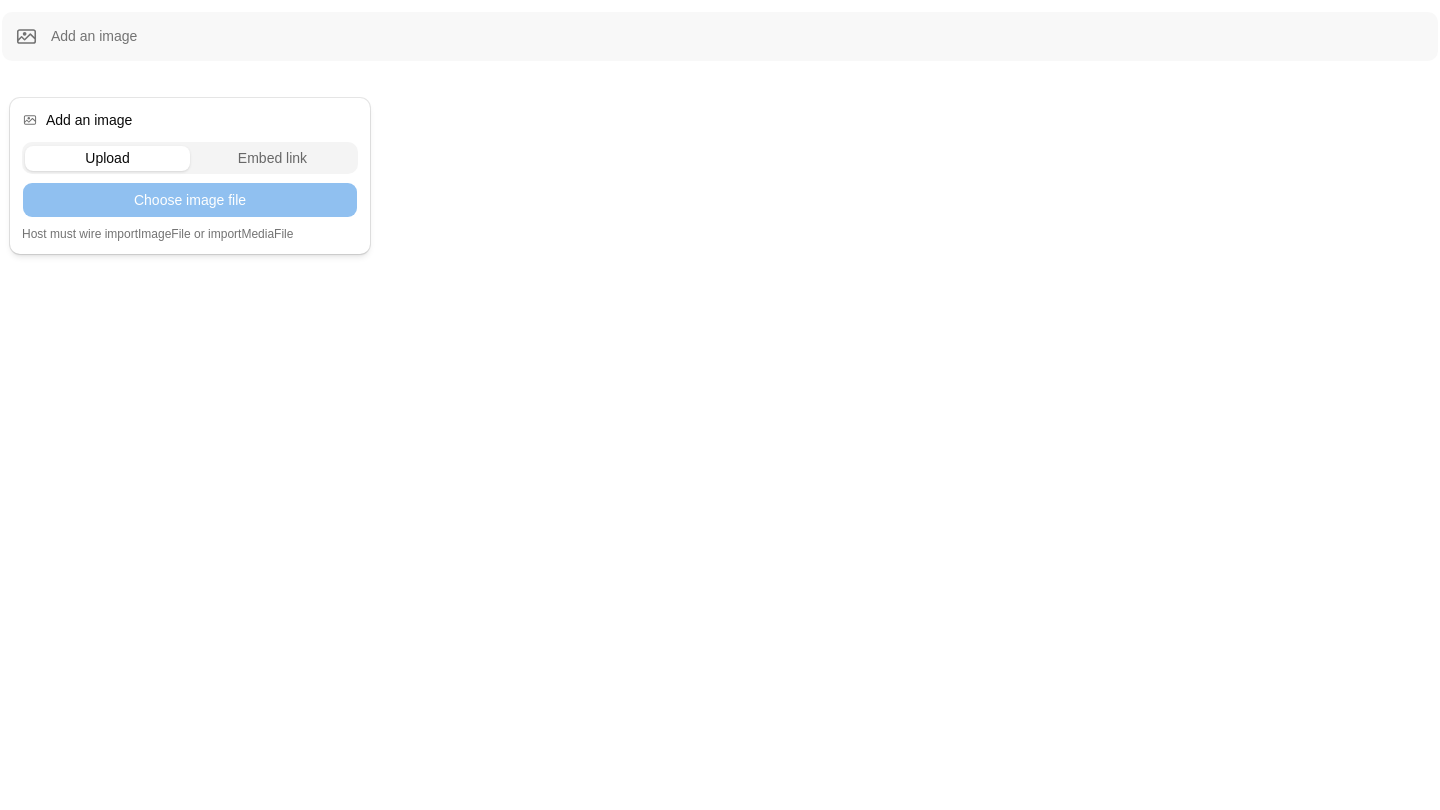
ImageEmptyPopover › rejects javascript URLs without mutating doc
The width and height of the screenshot is (1440, 810).
Expected: the tab "Upload" is shown, [25,146,190,170]
Press the mouse on the tab "Embed link" at {"x": 272, "y": 158}, box [190,146,355,170]
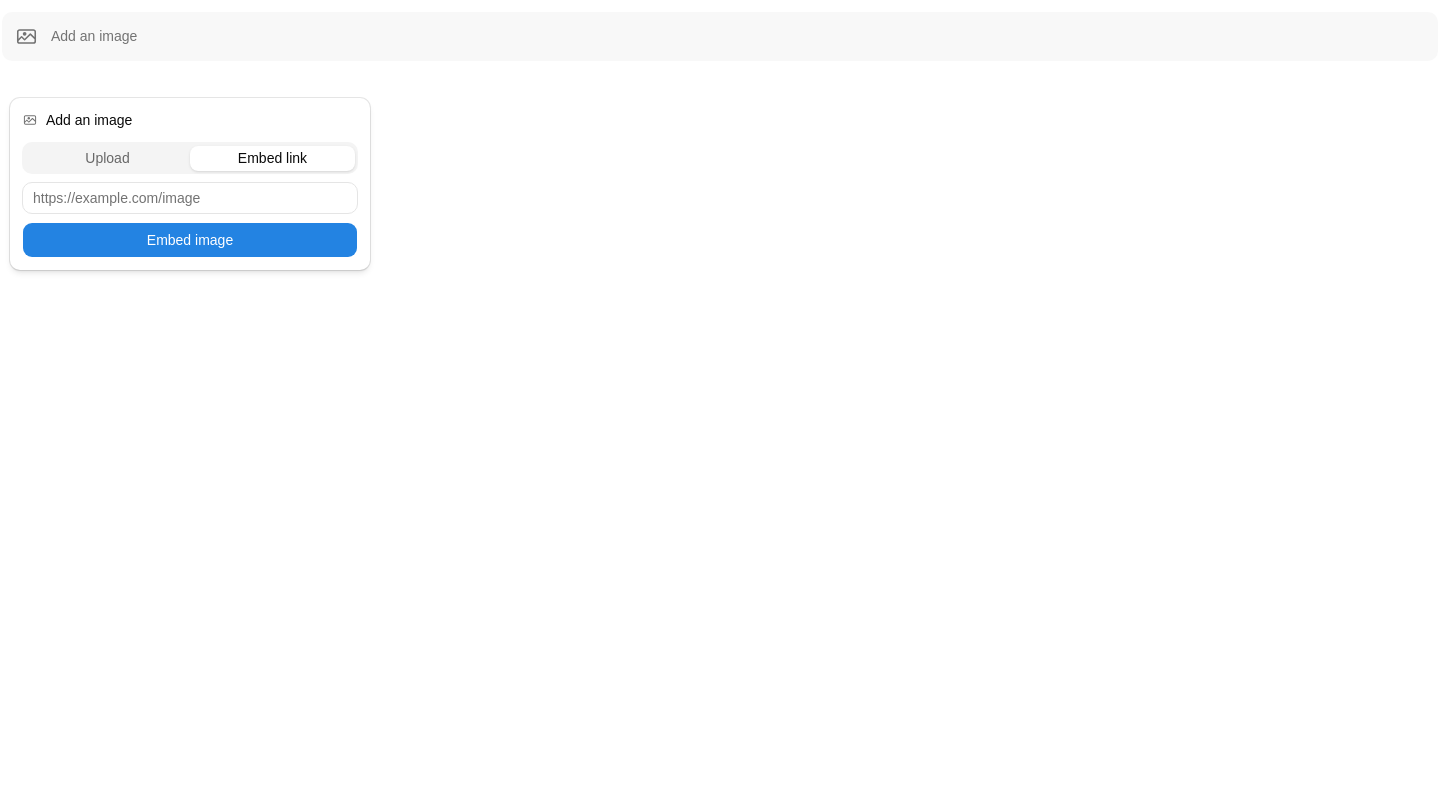
Type "javascript:alert(1)" into the field named "Image URL".
click(190, 198); type("javascript:alert(1)")  # box [22,182,358,214]
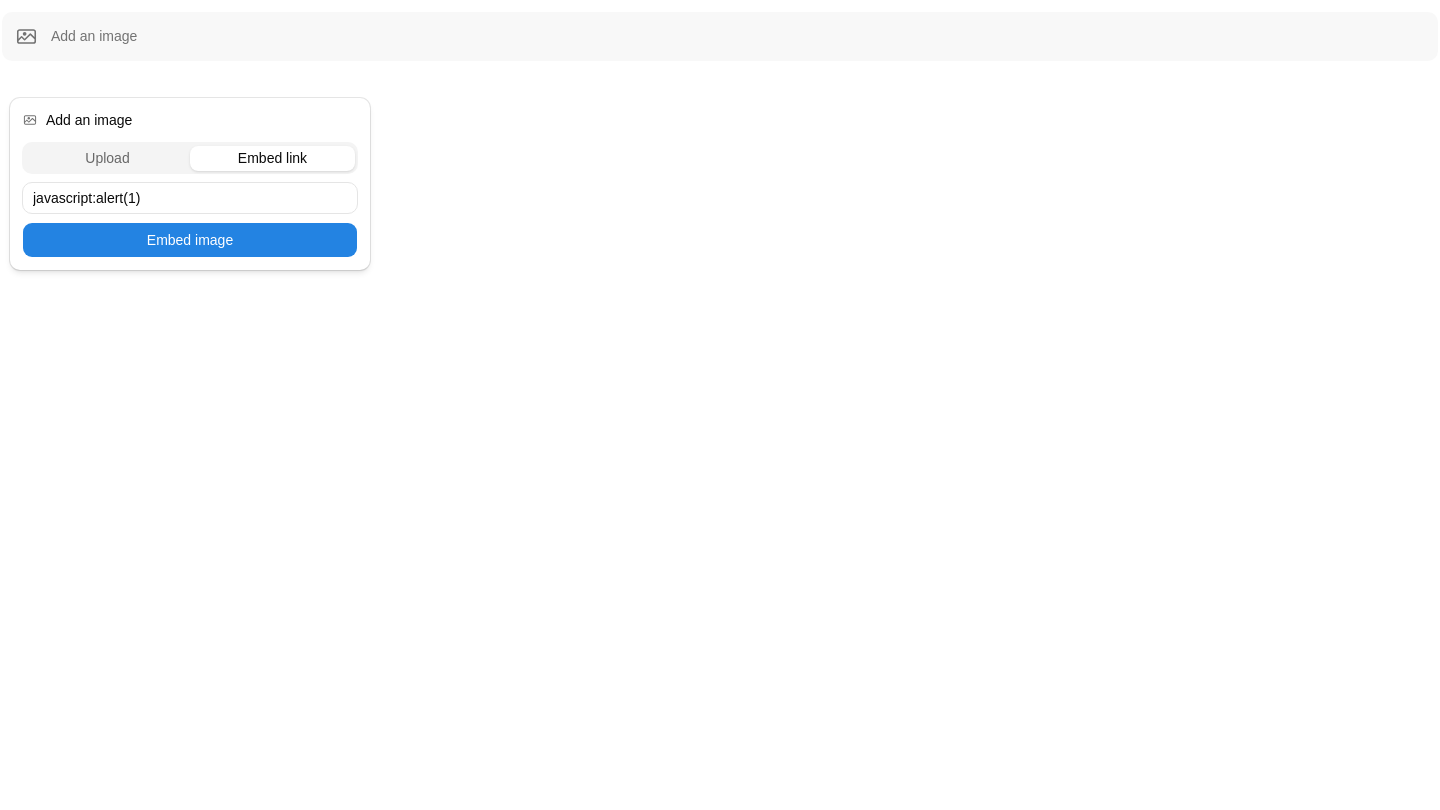
Click the button "Embed image".
click(190, 240)  # box [22,222,358,258]
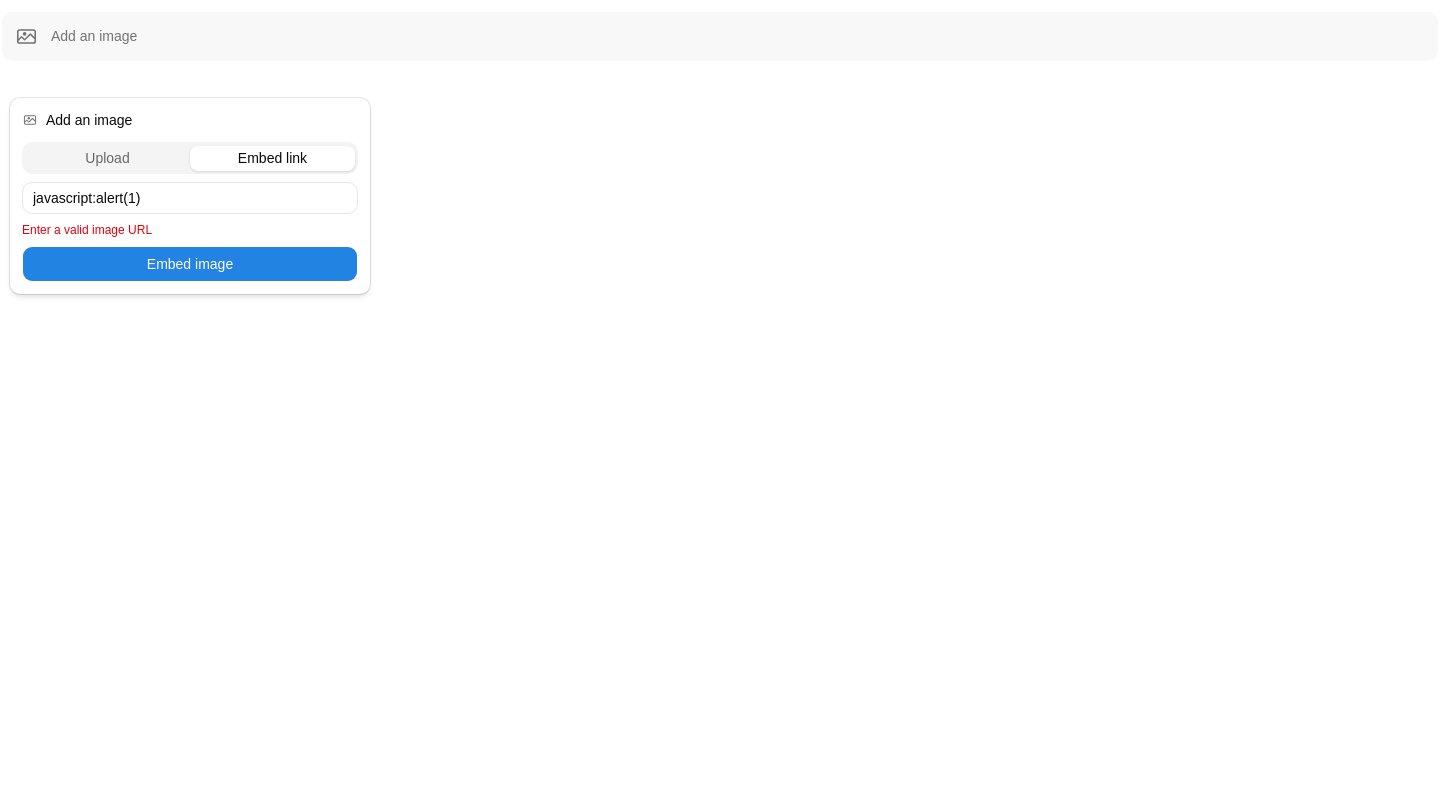
Expected: the text "Enter a valid image URL" is shown, [22,223,152,237]
